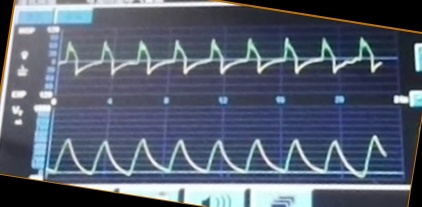Accumulation Flow: (62, 29, 386, 86)
Volume: (52, 131, 399, 183)
